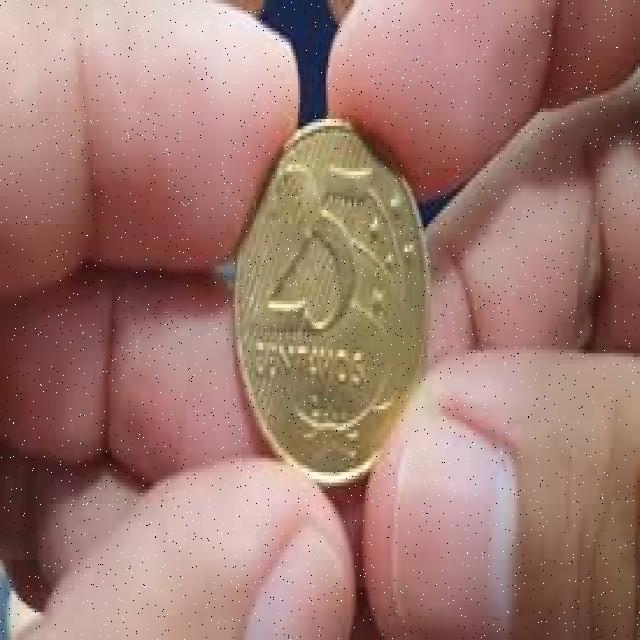25 cent: (236, 118, 414, 470)
